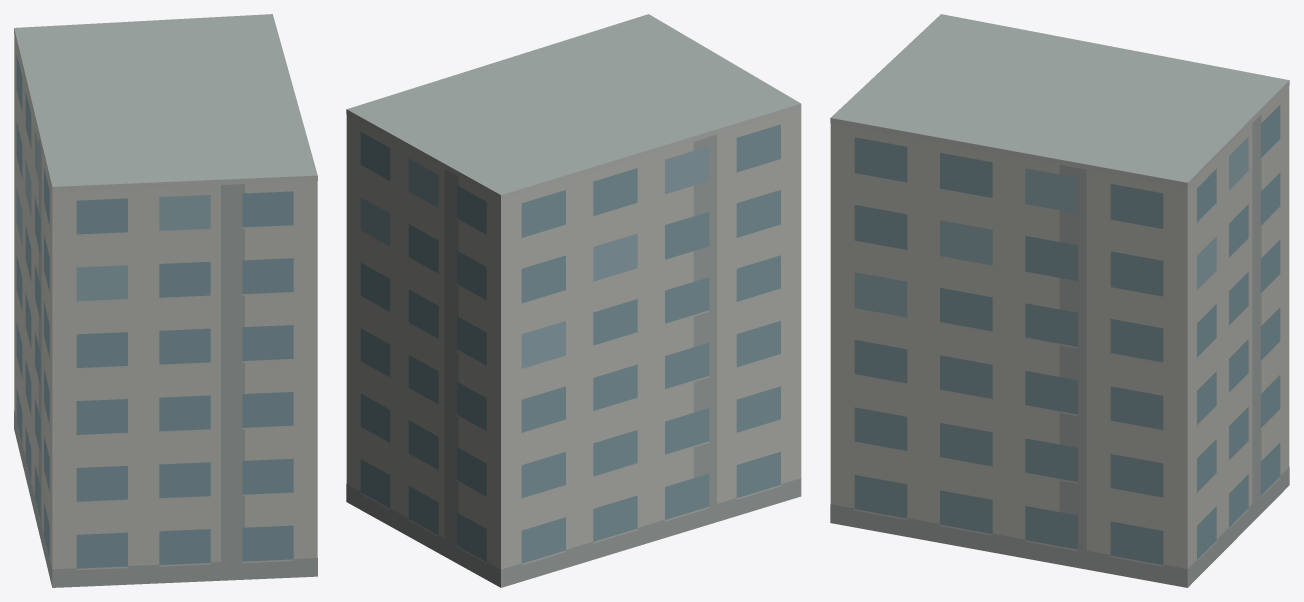
Rendered from survey-upis-32562481.glb.
3 views of the same model, side by side, from view 1: azimuth 30°, elevation 25°; view 2: azimuth 150°, elevation 25°; view 3: azimuth 270°, elevation 25° (orthographic). The views are drawn at different scales.
Parts seen in each view (by area): view 1: survey-upis-32562481.tmp; view 2: survey-upis-32562481.tmp; view 3: survey-upis-32562481.tmp.
Part boxes in pixels (x1,y1,x2,y2): survey-upis-32562481.tmp: (14, 14, 317, 587); survey-upis-32562481.tmp: (346, 14, 801, 587); survey-upis-32562481.tmp: (830, 14, 1289, 587).
Bounding box in the file's own units: 16.36 × 18.3 × 18.8.
